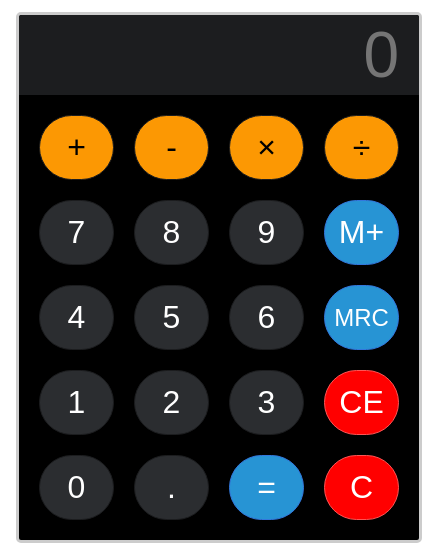
it: <Calculator /> › can add two numbers together
The width and height of the screenshot is (439, 560).
Click the button "1".
click(76, 402)  # box [39, 370, 114, 435]
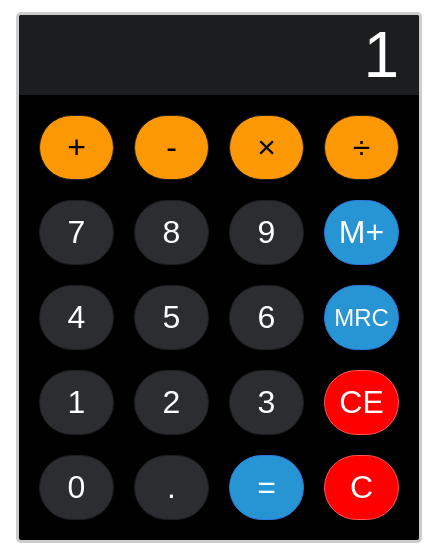
Click the button "+".
click(76, 148)  # box [39, 115, 114, 180]
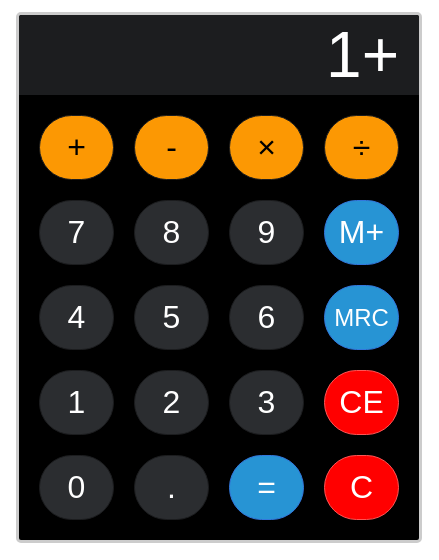
Click the button "2".
click(172, 402)  # box [134, 370, 209, 435]
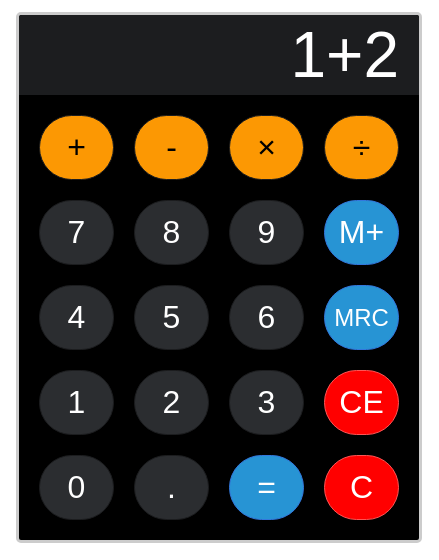
Click the button "=".
click(266, 488)  # box [229, 455, 304, 520]
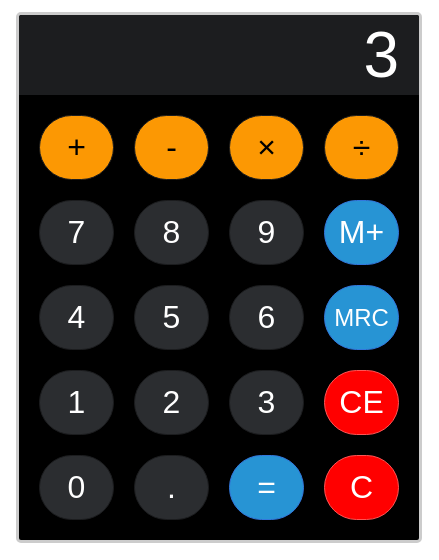
Now the field with placeholder "0" holds "3", box [19, 15, 419, 95]
